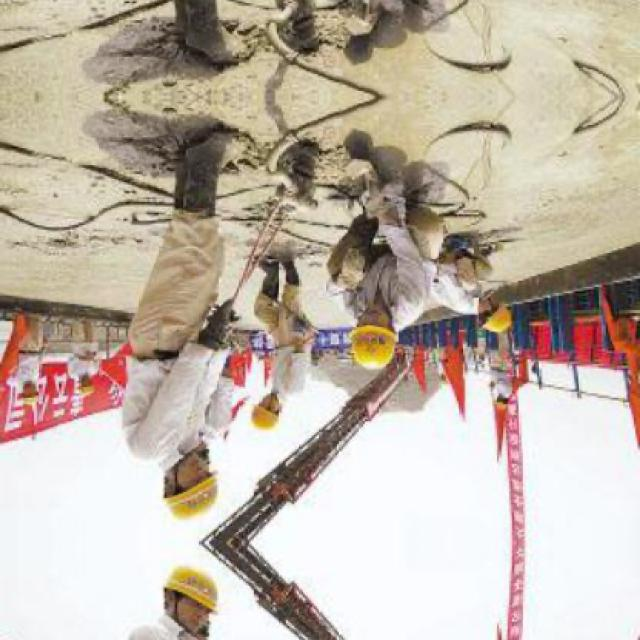con casco: (131, 462, 255, 543), (332, 302, 428, 369), (232, 380, 295, 451), (478, 289, 536, 360)
